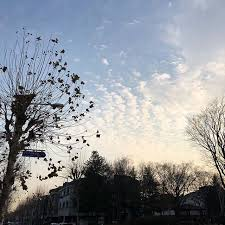sky: (83, 1, 213, 162)
tree: (1, 31, 85, 217), (192, 108, 225, 210), (150, 163, 202, 214)
